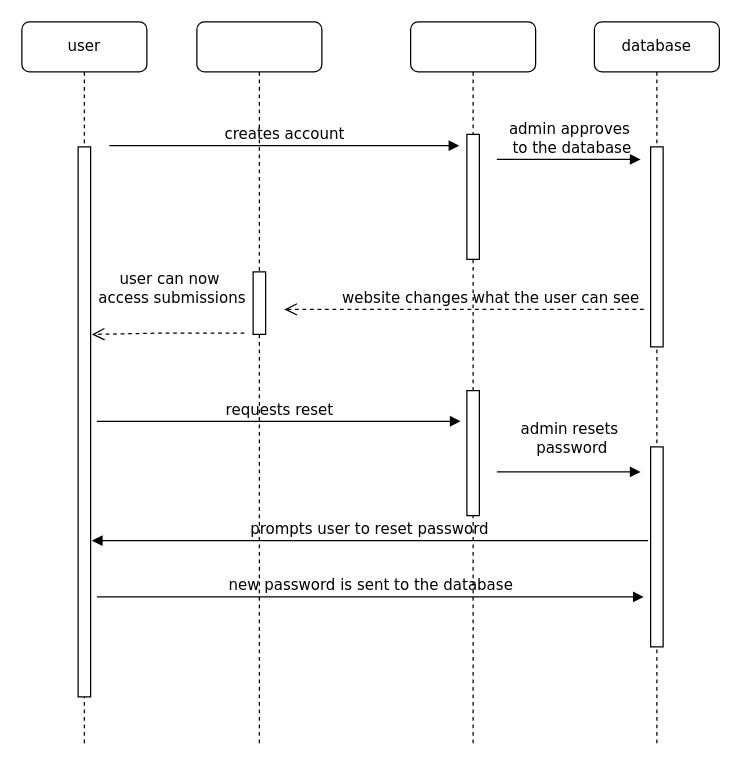
The diagram is 741 pixels wide and 769 high, and some of its shapes have lost their labels. Each missing label, with the box of its shape:
admin: (409, 21, 536, 747)
webpage: (196, 21, 322, 747)
